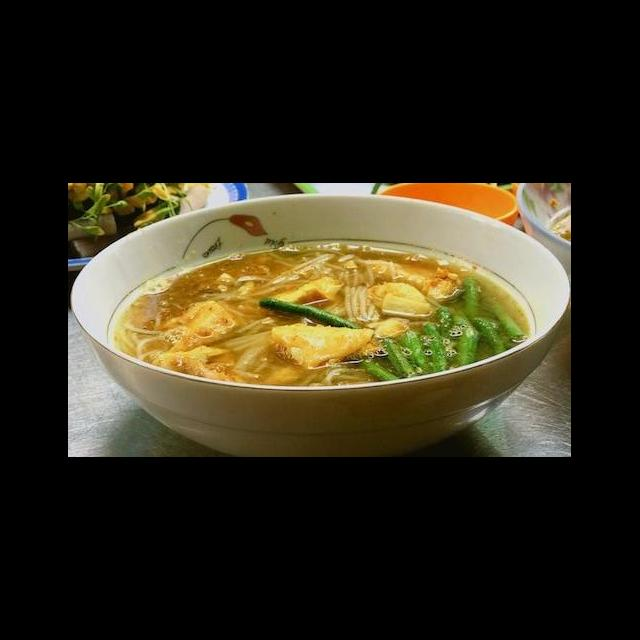bun: (336, 264, 384, 325), (114, 319, 166, 367)
bun ca: (90, 201, 557, 443)
ca: (270, 321, 378, 368), (360, 276, 446, 323), (168, 301, 238, 350)
